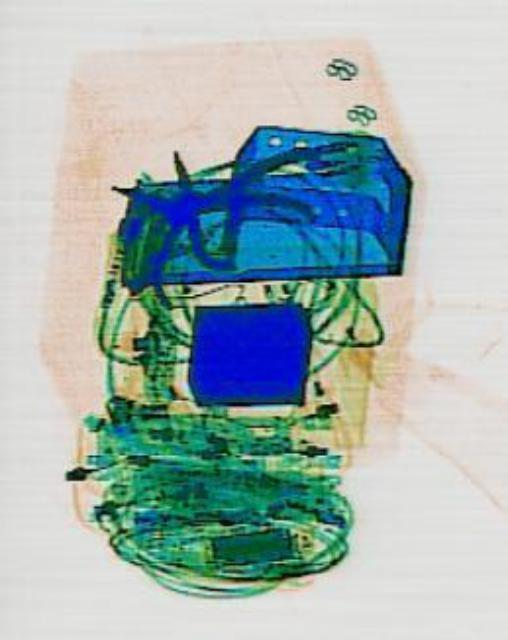Pliers: (83, 79, 315, 345)
